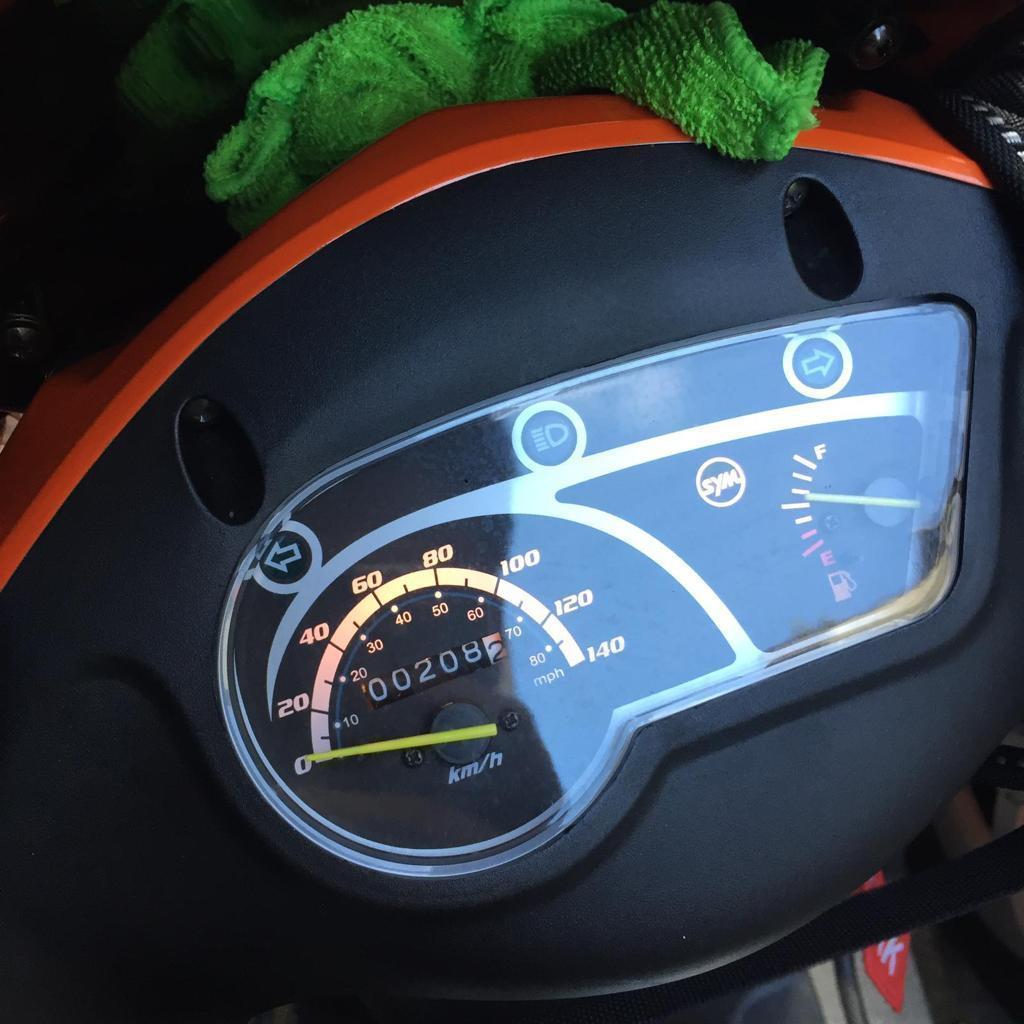0: (367, 677, 388, 702), (390, 667, 411, 691), (438, 649, 458, 673), (374, 637, 383, 650), (358, 666, 367, 678)
2: (414, 659, 436, 683), (487, 640, 507, 662)
3: (365, 641, 375, 654)
8: (461, 640, 482, 663)
odometer: (359, 630, 509, 712)
